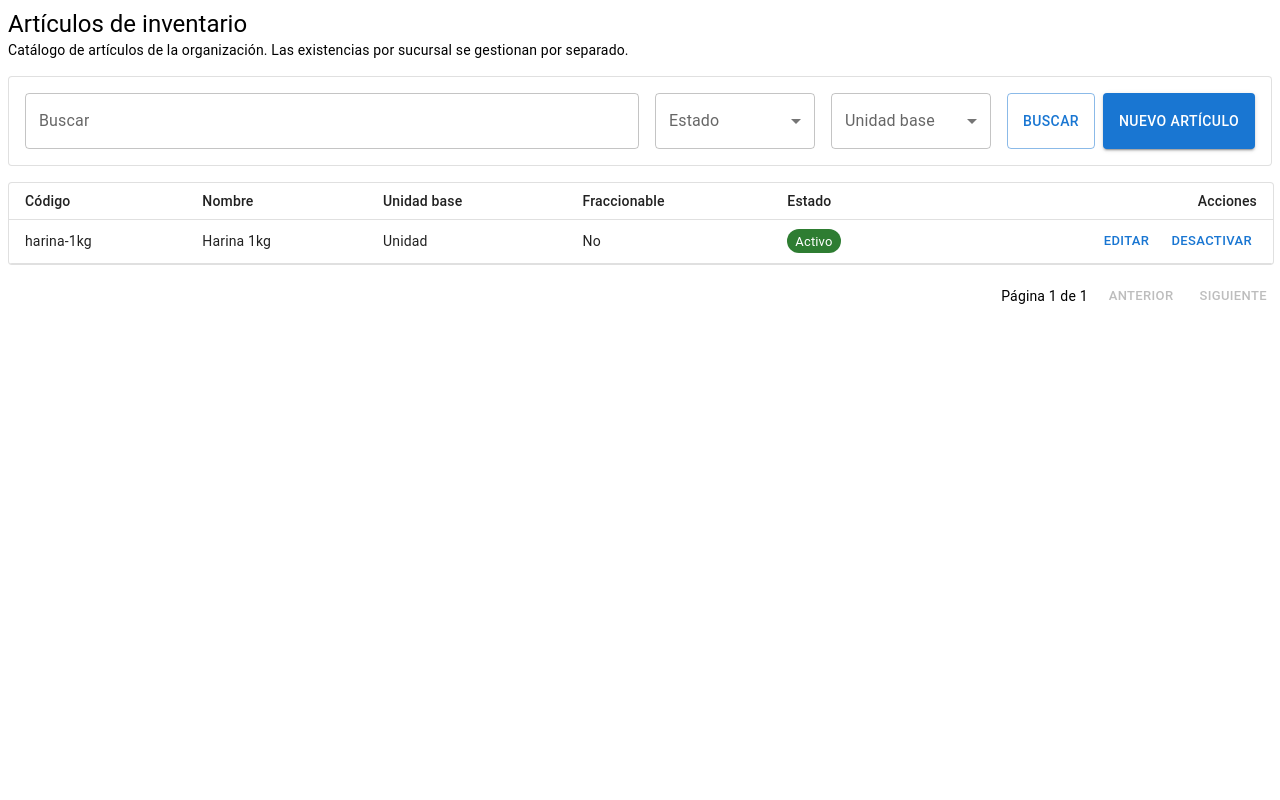
Test: InventoryItemsPage › reports a duplicate code conflict without closing the dialog
Expected: the text "Harina 1kg" is shown, left=186, top=220, right=367, bottom=263
Click the button "Nuevo artículo": (1179, 121) left=1103, top=93, right=1255, bottom=149
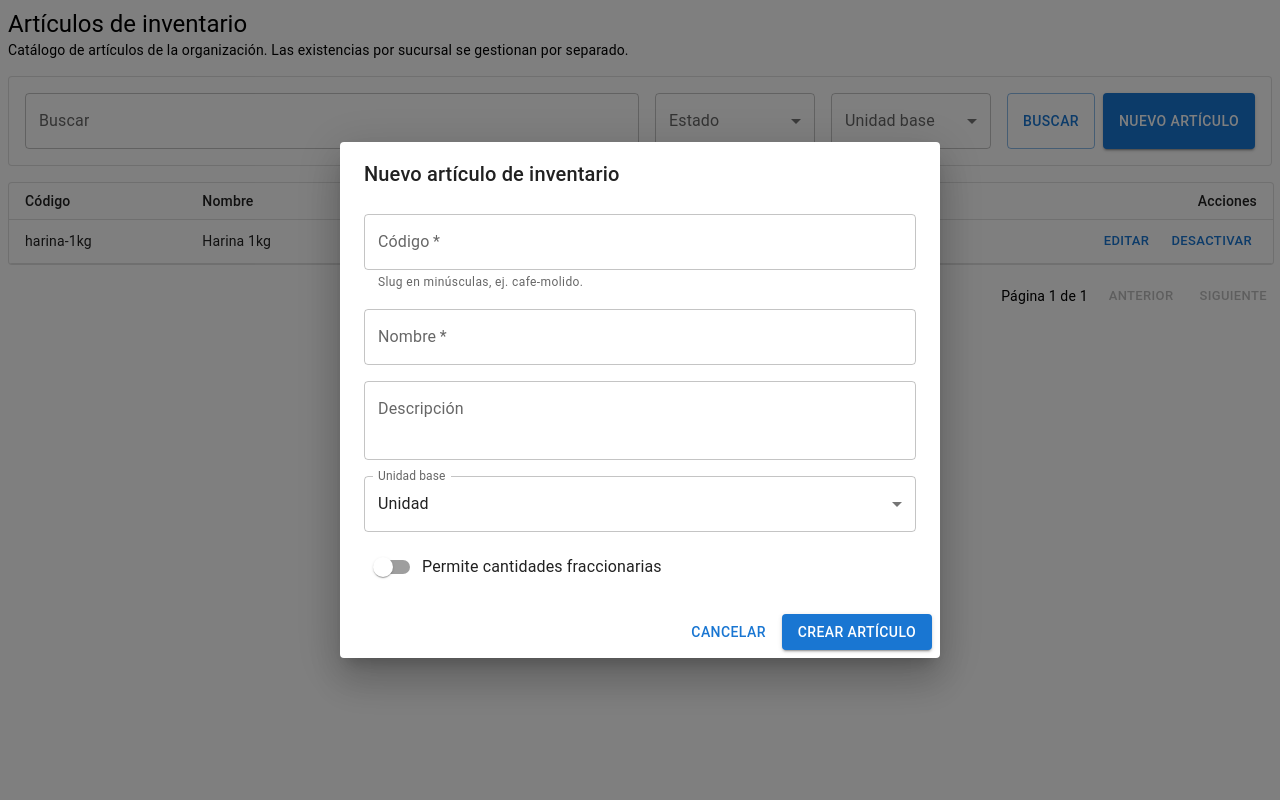
In the field labelled "Código *": (640, 242) left=364, top=214, right=916, bottom=270, type "harina-1kg"
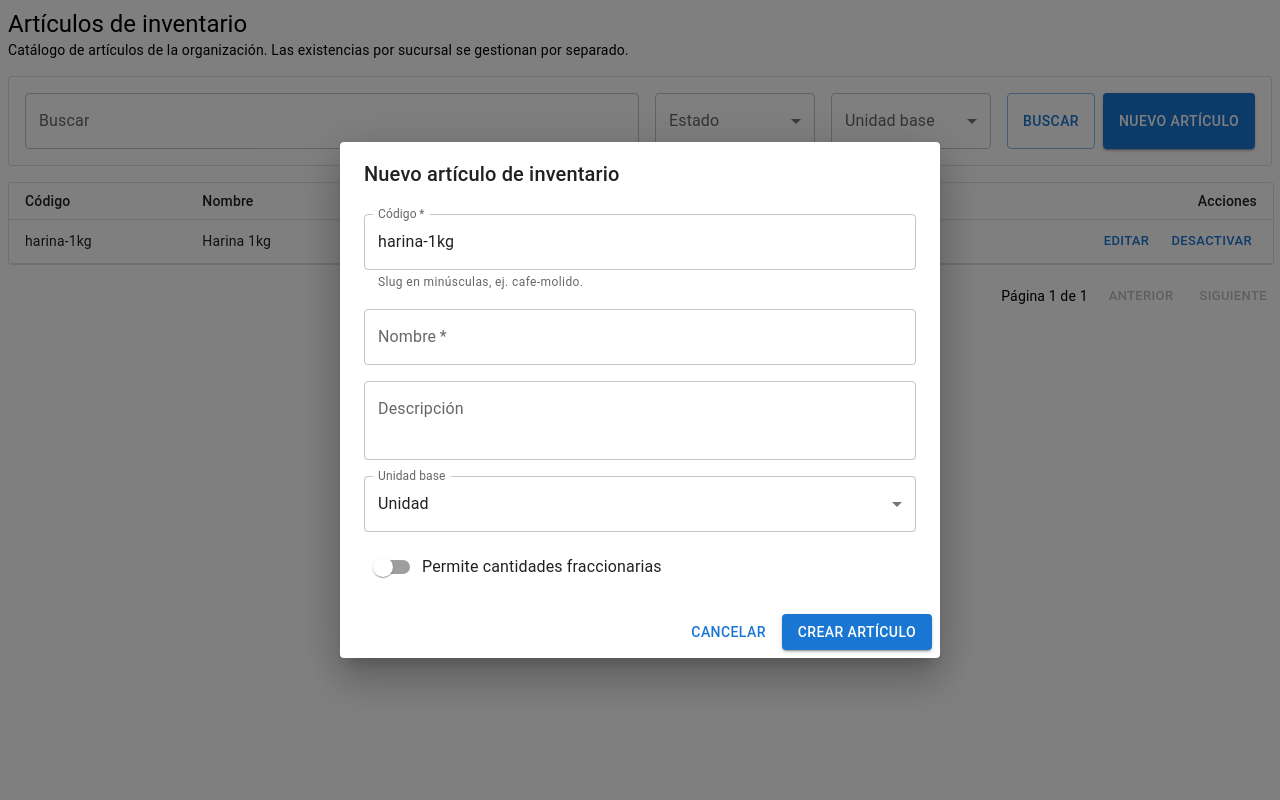
In the field labelled "Nombre *": (640, 337) left=364, top=309, right=916, bottom=365, type "Duplicado"
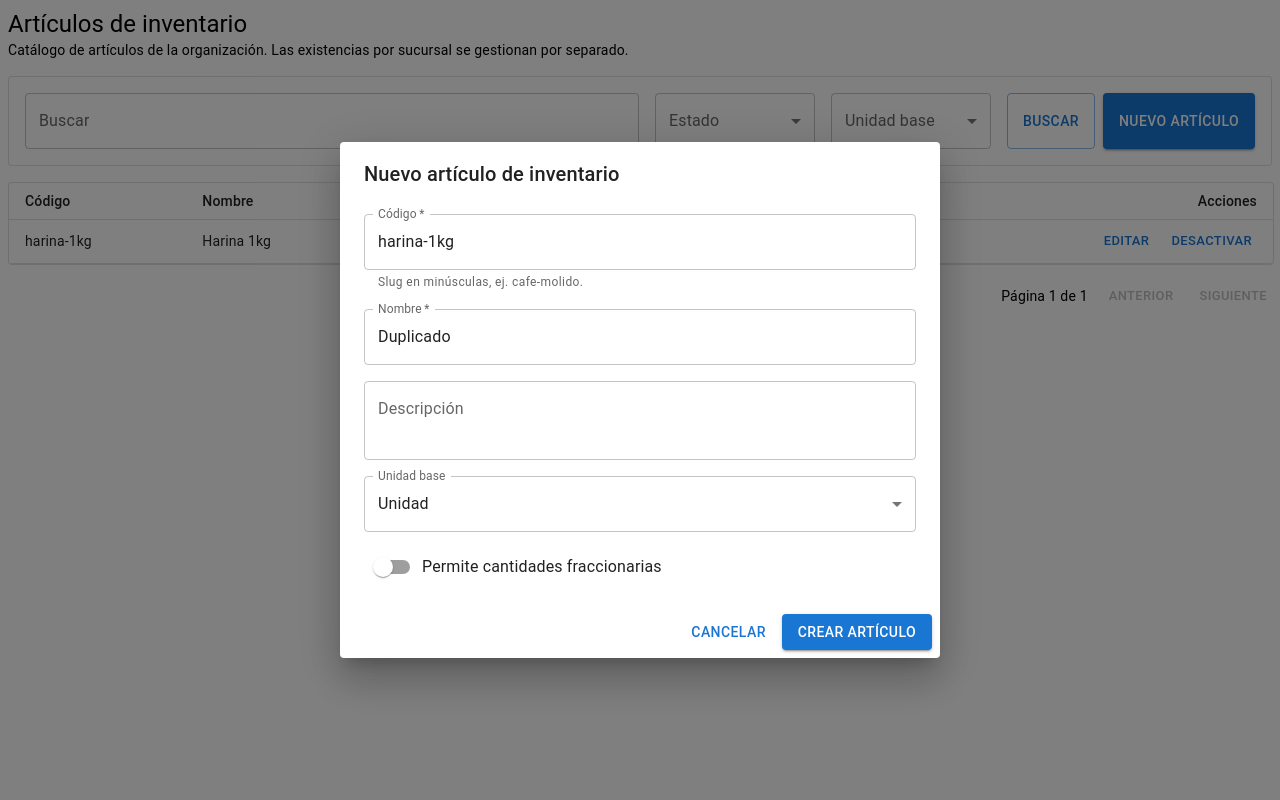
Click the button "Crear artículo": (857, 632) left=782, top=614, right=932, bottom=650
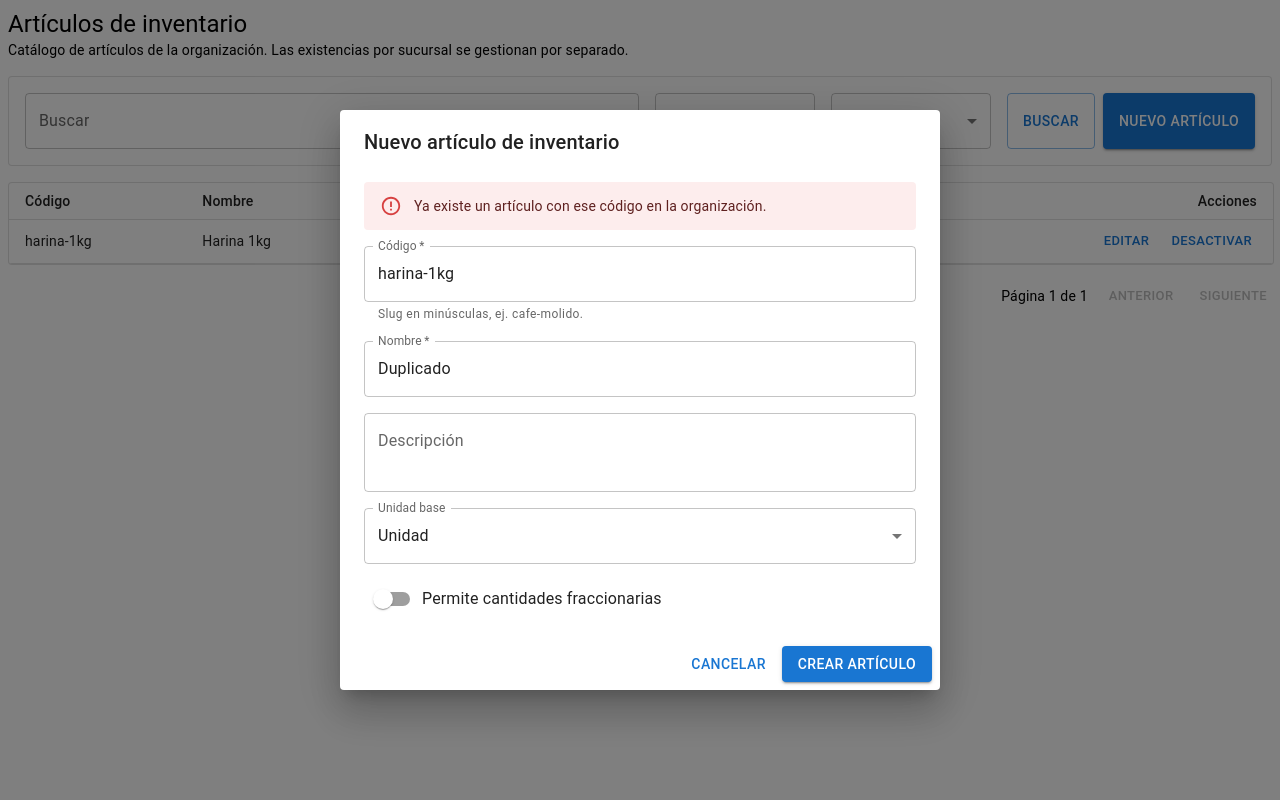
Expected: the dialog is shown, left=340, top=110, right=940, bottom=690
Expected: the text "Ya existe un artículo con ese código en la organización." is shown, left=414, top=198, right=766, bottom=214
